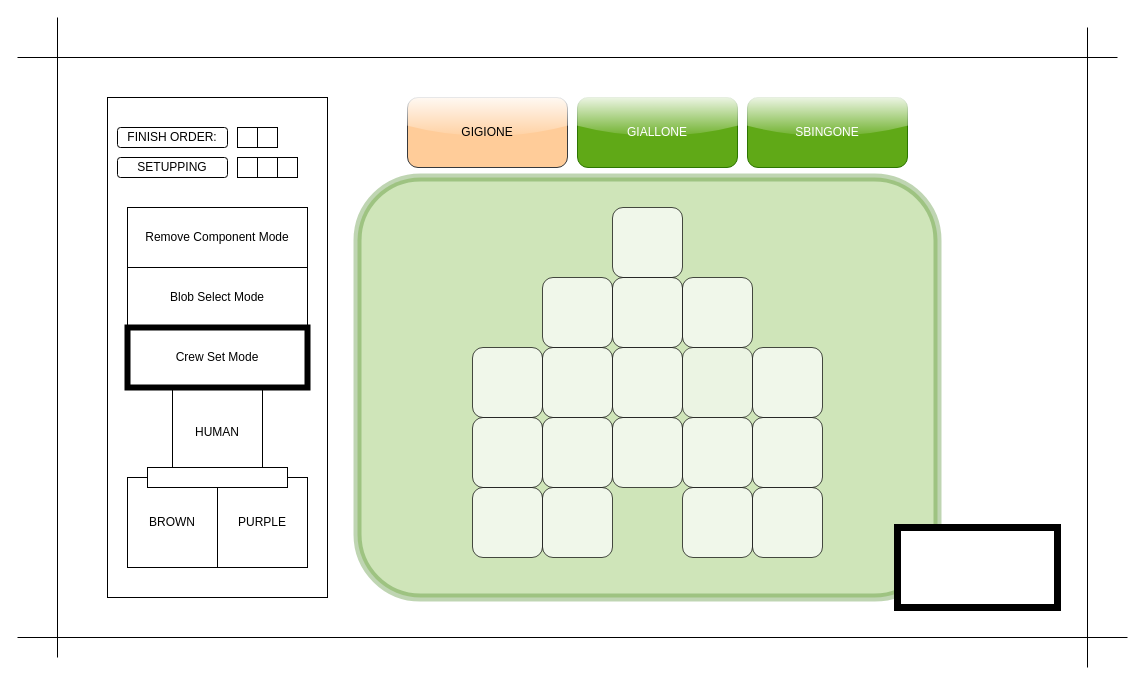
Image size: 1146x686. Some labels were removed from this diagram. Here are the shapes that lost their labels. From the top down, the centre of each, then its label:
At point (217, 477): "DRAG ON CABIN!".
At point (977, 567): "Continue".
